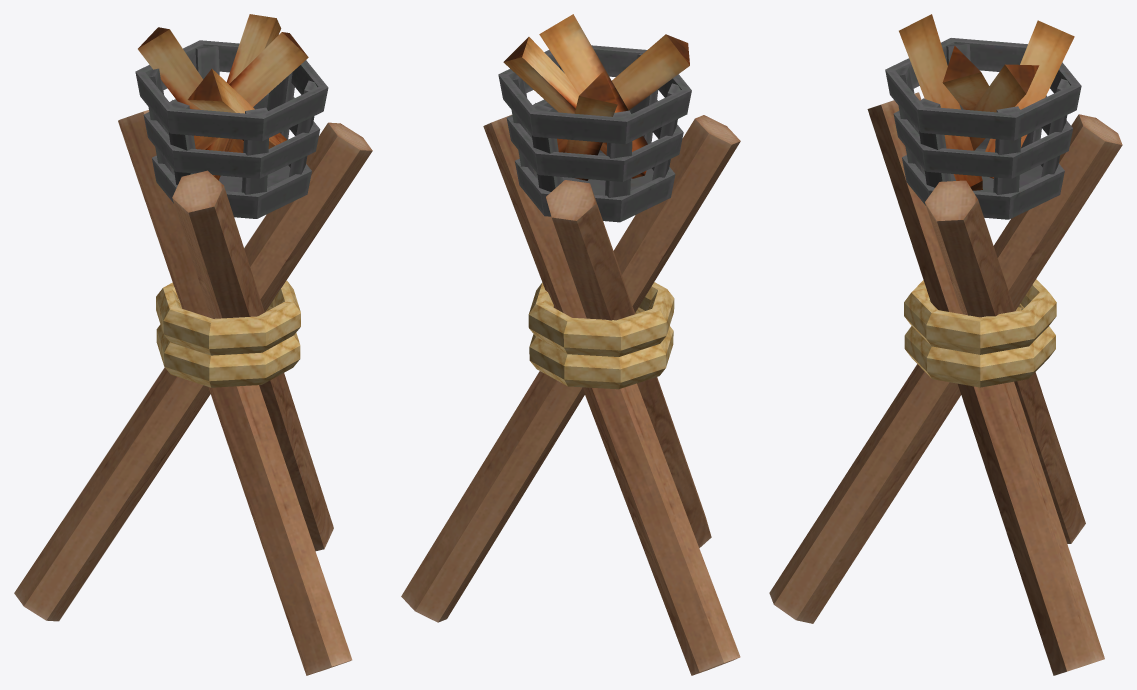
File: torch.dae
3 renders of one model, left to right at view 1: azimuth 30°, elevation 25°; view 2: azimuth 150°, elevation 25°; view 3: azimuth 270°, elevation 25°, orthographic.
Visible parts, largest first — view 1: SketchUp (×17); view 2: SketchUp (×15); view 3: SketchUp (×15).
Boxes of the visible parts, <box> form: SketchUp (×17): <box>14,14,372,675</box>; SketchUp (×15): <box>401,14,740,675</box>; SketchUp (×15): <box>769,14,1122,675</box>.
Size of the model in its own units: 34.64 by 32.57 by 60.1.
2 materials, 2 textured.
